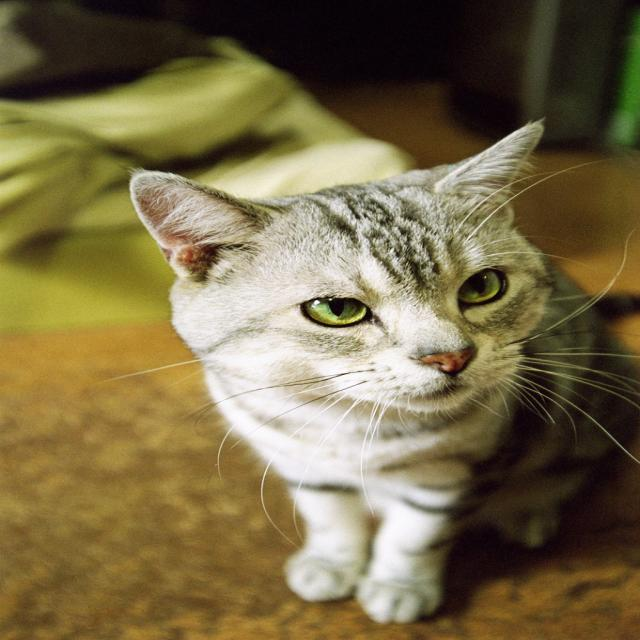cat: (104, 117, 639, 626)
